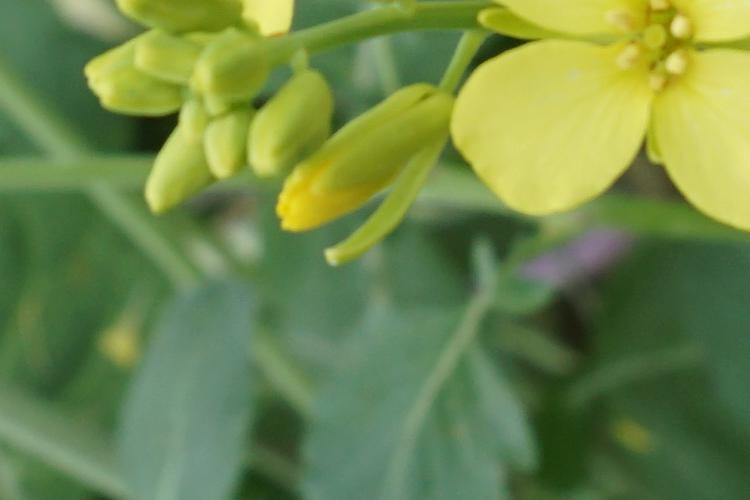bud: (242, 70, 342, 170), (140, 120, 211, 226), (78, 40, 179, 112), (189, 42, 271, 100), (201, 114, 249, 200), (130, 5, 262, 34), (134, 39, 208, 87), (181, 93, 210, 136)
yellow: (467, 14, 750, 220)
